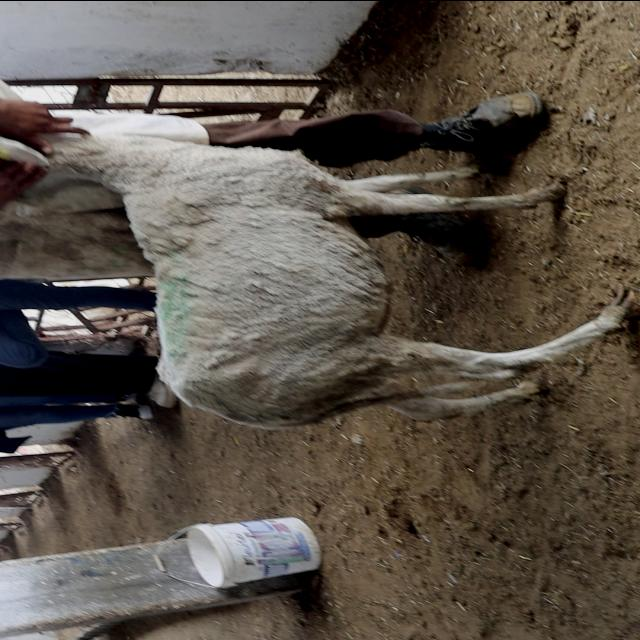Score_1: (0, 133, 632, 429)
